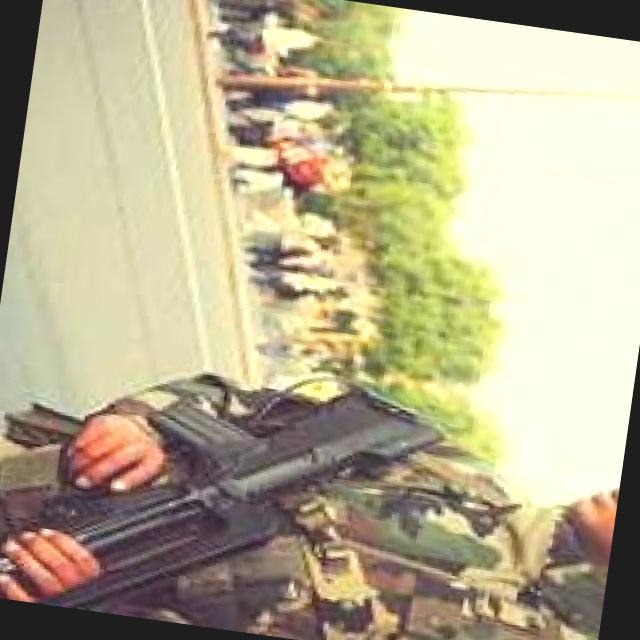long weapon: (0, 306, 460, 639)
